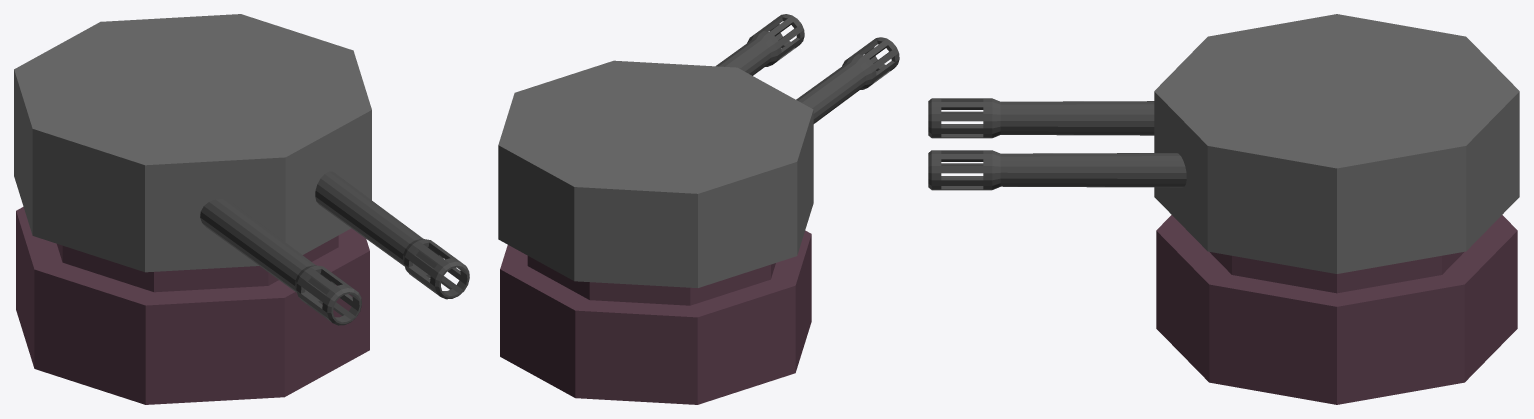
Rendered from turet.fbx.
3 views of the same model, side by side, from view 1: azimuth 30°, elevation 25°; view 2: azimuth 150°, elevation 25°; view 3: azimuth 270°, elevation 25° (orthographic). The views are drawn at different scales.
Parts seen in each view (by area): view 1: Cylinder.002, Cylinder, Cylinder.003, Cylinder.004; view 2: Cylinder.002, Cylinder, Cylinder.003, Cylinder.004; view 3: Cylinder.002, Cylinder, Cylinder.004, Cylinder.003.
Boxes of the visible parts, x1,y1,x2,y2 form: Cylinder.002: [14, 14, 371, 272]; Cylinder: [16, 207, 369, 404]; Cylinder.003: [200, 199, 361, 325]; Cylinder.004: [315, 171, 469, 299]; Cylinder.002: [498, 60, 813, 287]; Cylinder: [500, 230, 811, 404]; Cylinder.003: [796, 37, 899, 123]; Cylinder.004: [716, 14, 804, 75]; Cylinder.002: [1154, 14, 1519, 273]; Cylinder: [1156, 215, 1517, 404]; Cylinder.004: [928, 150, 1186, 190]; Cylinder.003: [928, 98, 1154, 138].
Size of the model in its own units: 83.12 by 59.55 by 135.
